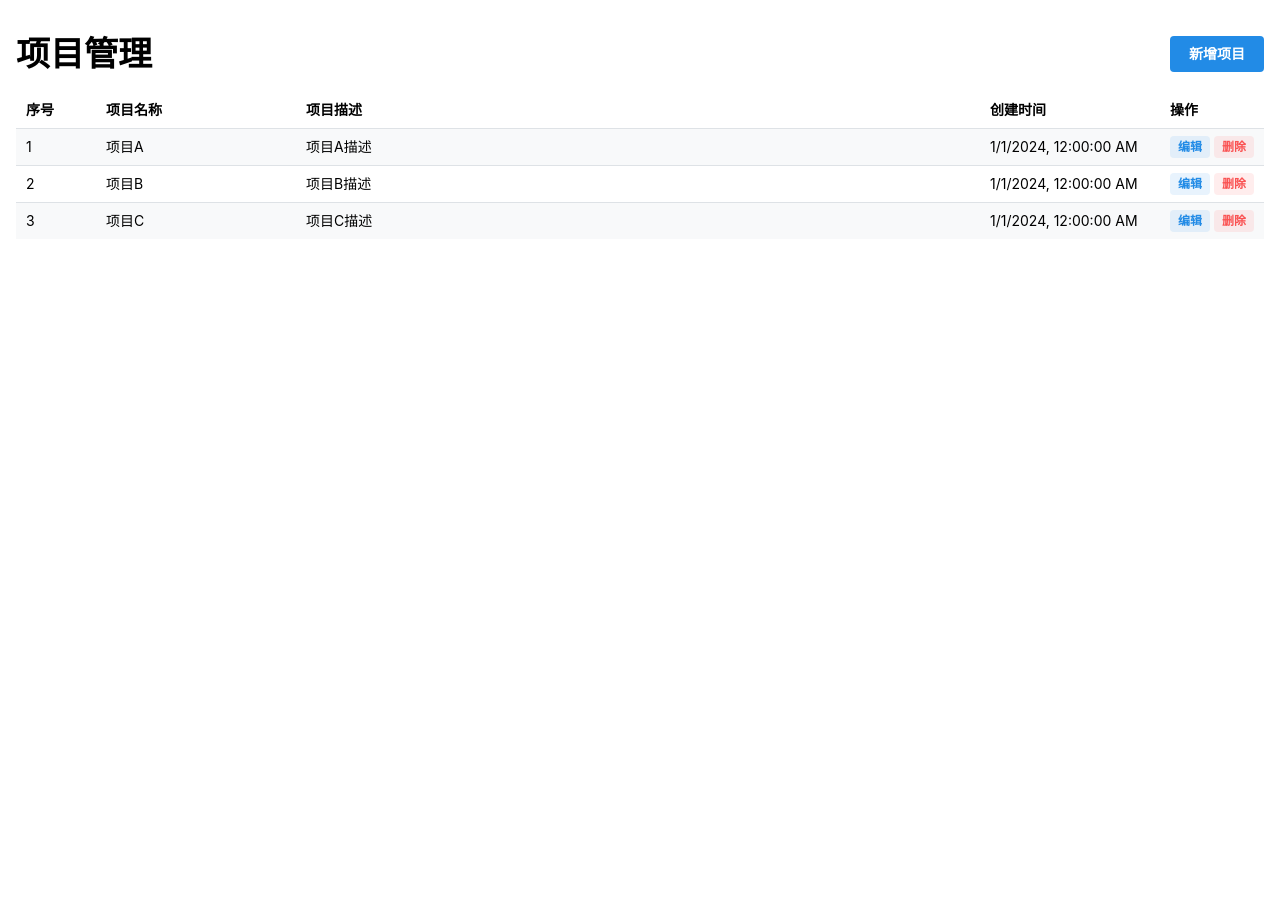
Test: ProjectManagementPage 页面 › 编辑项目 › 点击编辑按钮打开编辑弹窗并预填充数据
Check: the text "项目A" is shown, box x1=96 y1=128 x2=296 y2=165
Click the button "编辑" in the row of "项目A描述": (1190, 147) x1=1170 y1=136 x2=1210 y2=158
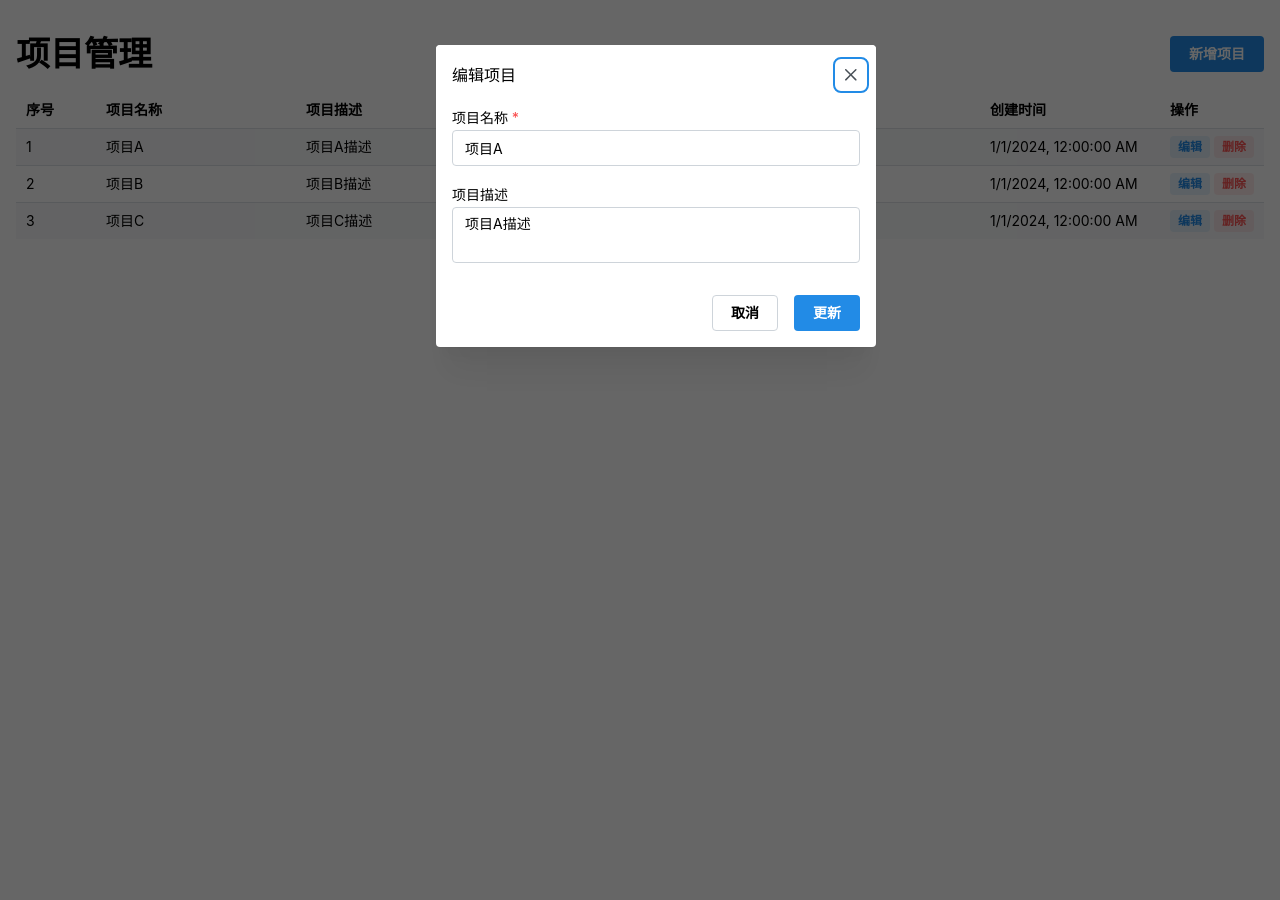
Check: the dialog is shown, box x1=436 y1=45 x2=876 y2=347
Check: the field with placeholder "请输入项目名称" holds "项目A", box x1=452 y1=130 x2=860 y2=166
Check: the button "更新" is shown, box x1=794 y1=295 x2=860 y2=331
